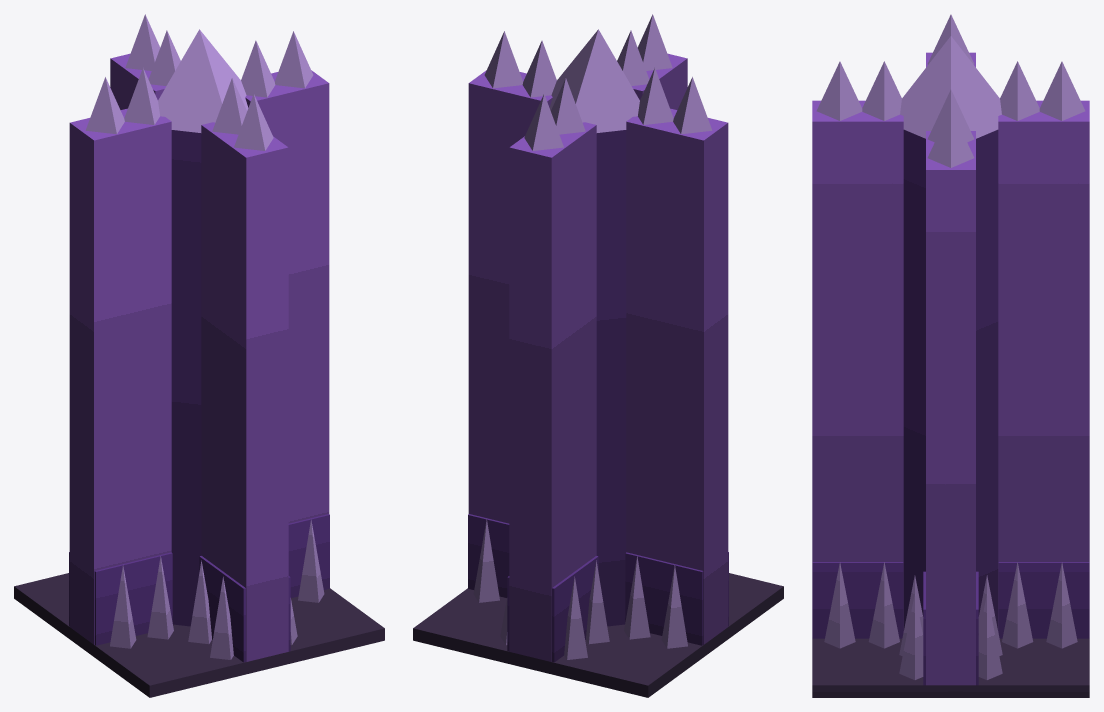
Rendered from model_45_crystal_cross.glb.
3 views of the same model, side by side, from view 1: azimuth 30°, elevation 25°; view 2: azimuth 150°, elevation 25°; view 3: azimuth 270°, elevation 25° (orthographic). The views are drawn at different scales.
Bounding box in the file's own units: 1 × 2.4 × 1.
Materials: 1 (1 with a texture image).
